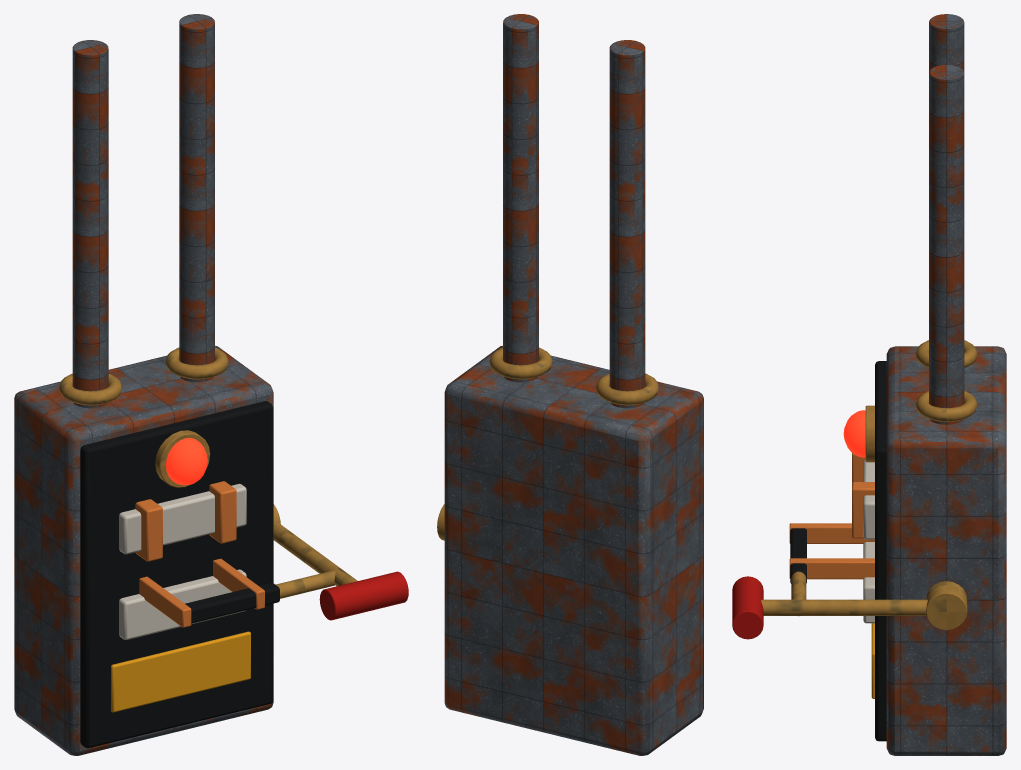
The model's file is power_switch.glb.
3 renders of one model, left to right at view 1: azimuth 30°, elevation 25°; view 2: azimuth 150°, elevation 25°; view 3: azimuth 270°, elevation 25°, orthographic. The views are drawn at different scales.
Visible parts, largest first — view 1: PowerBox, SwitchLever; view 2: PowerBox; view 3: PowerBox, SwitchLever.
Part boxes in pixels (x1,y1,x2,y2): PowerBox: (14,14,280,755); SwitchLever: (139,521,408,627); PowerBox: (437,14,703,755); PowerBox: (843,14,1006,755); SwitchLever: (732,523,927,639).
Bounding box in the file's own units: 0.63 × 1.58 × 0.594.
8 materials, 2 textured.
